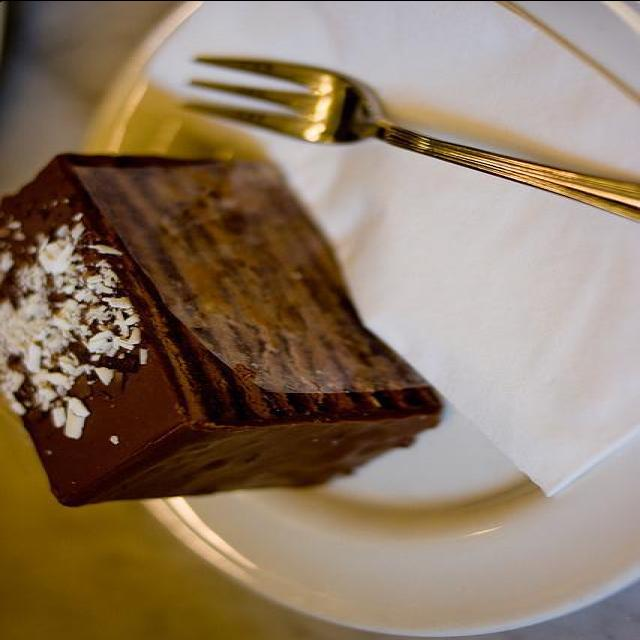cake: (2, 138, 440, 514)
fork: (178, 56, 640, 222)
